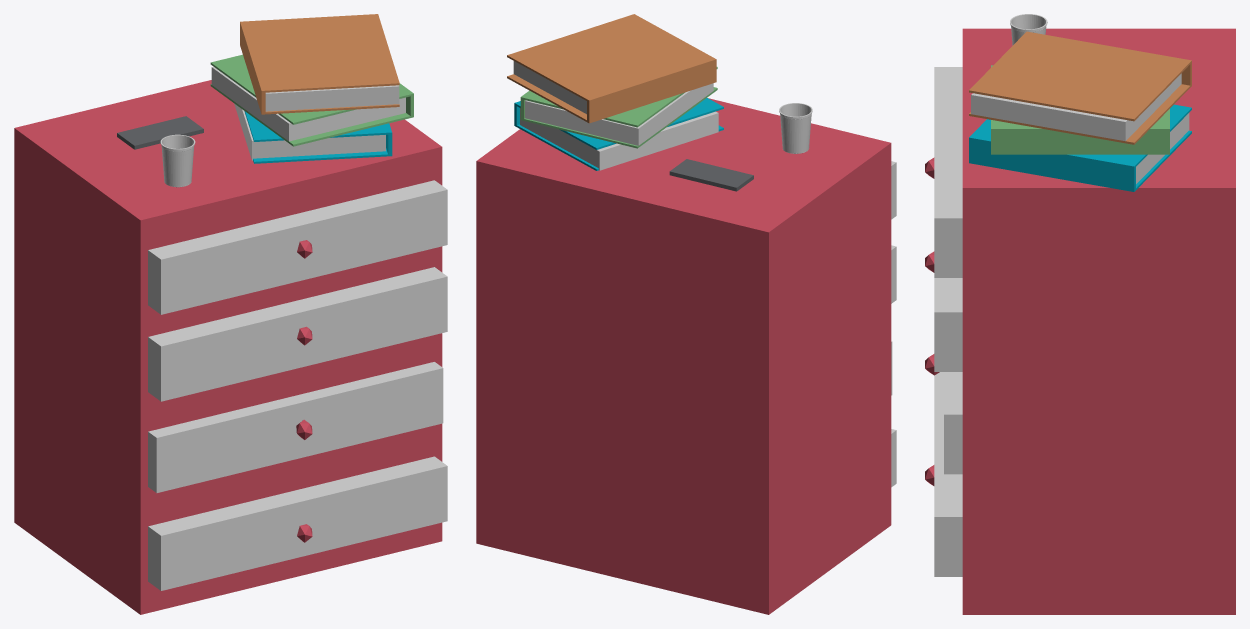
The model's file is PRO149.glb.
3 views of the same model, side by side, from view 1: azimuth 30°, elevation 25°; view 2: azimuth 150°, elevation 25°; view 3: azimuth 270°, elevation 25° (orthographic). The views are drawn at different scales.
Parts seen in each view (by area): view 1: Mesh_Mesh_head_geo.001_lambert2SG.001; view 2: Mesh_Mesh_head_geo.001_lambert2SG.001; view 3: Mesh_Mesh_head_geo.001_lambert2SG.001.
Boxes of the visible parts, <box> form: Mesh_Mesh_head_geo.001_lambert2SG.001: <box>14,14,447,614</box>; Mesh_Mesh_head_geo.001_lambert2SG.001: <box>476,14,896,614</box>; Mesh_Mesh_head_geo.001_lambert2SG.001: <box>925,14,1235,614</box>.
Bounding box in the file's own units: 42.03 × 59 × 33.
